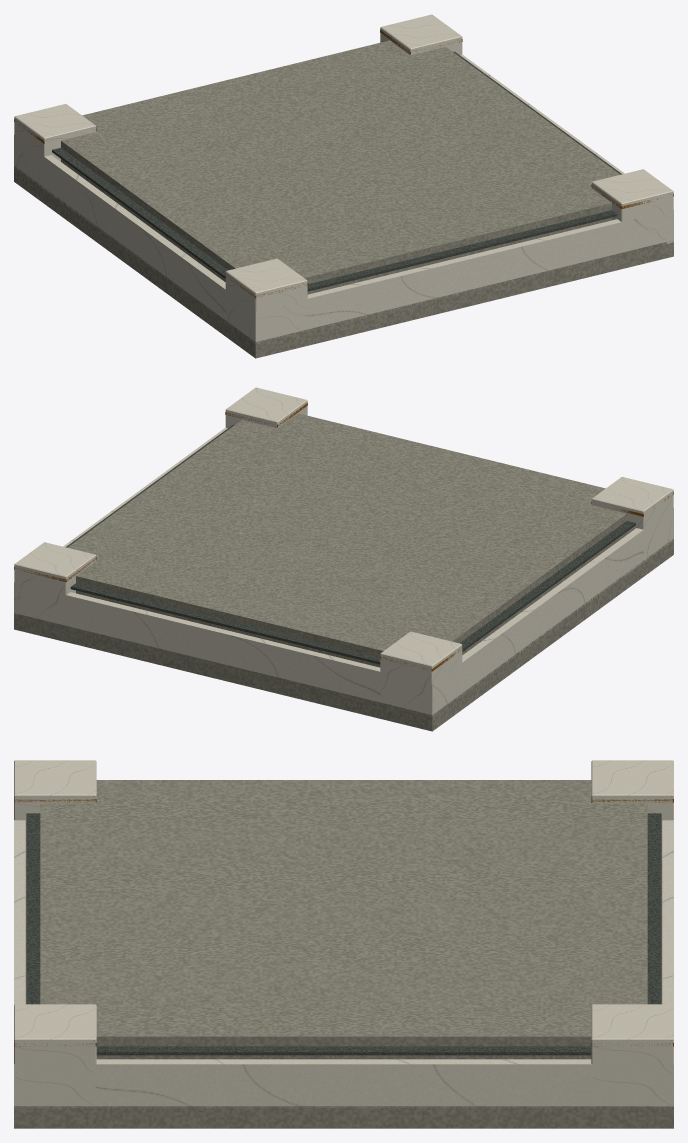
3 views of the same model, one above another, from view 1: azimuth 30°, elevation 25°; view 2: azimuth 150°, elevation 25°; view 3: azimuth 270°, elevation 25° (orthographic). The views are drawn at different scales.
Visible parts, largest first — view 1: LOD1__Plinth bearing body, LOD1__Perimeter exposed marble footing edge, LOD1__Footing bottom bearing pad, LOD1__Perimeter exposed marble footing edge.002, LOD1__Independent marble corner bearing facing, LOD1__Independent marble corner bearing facing.002, LOD1__Independent marble corner bearing facing.001, LOD1__Separate open drainage channel bed, LOD1__Independent marble corner bearing facing.003, LOD1__Separate open drainage channel bed.002, LOD1__Perimeter exposed marble footing edge.003; view 2: LOD1__Plinth bearing body, LOD1__Perimeter exposed marble footing edge.001, LOD1__Footing bottom bearing pad, LOD1__Perimeter exposed marble footing edge.002, LOD1__Independent marble corner bearing facing.001, LOD1__Independent marble corner bearing facing.003, LOD1__Independent marble corner bearing facing, LOD1__Separate open drainage channel bed.001, LOD1__Independent marble corner bearing facing.002, LOD1__Separate open drainage channel bed.002, LOD1__Perimeter exposed marble footing edge.003; view 3: LOD1__Plinth bearing body, LOD1__Perimeter exposed marble footing edge.003, LOD1__Footing bottom bearing pad, LOD1__Independent marble corner bearing facing.003, LOD1__Independent marble corner bearing facing.002, LOD1__Separate open drainage channel bed.003, LOD1__Independent marble corner bearing facing.001, LOD1__Independent marble corner bearing facing, LOD1__Separate open drainage channel bed, LOD1__Separate open drainage channel bed.001, LOD1__Perimeter exposed marble footing edge, LOD1__Perimeter exposed marble footing edge.001.
Boxes of the visible parts, bbox=[...] form: LOD1__Plinth bearing body: bbox=[61, 40, 620, 294]; LOD1__Perimeter exposed marble footing edge: bbox=[251, 209, 673, 343]; LOD1__Footing bottom bearing pad: bbox=[14, 166, 673, 358]; LOD1__Perimeter exposed marble footing edge.002: bbox=[14, 138, 262, 341]; LOD1__Independent marble corner bearing facing: bbox=[225, 258, 307, 341]; LOD1__Independent marble corner bearing facing.002: bbox=[592, 169, 673, 251]; LOD1__Independent marble corner bearing facing.001: bbox=[14, 104, 95, 185]; LOD1__Separate open drainage channel bed: bbox=[307, 210, 617, 291]; LOD1__Independent marble corner bearing facing.003: bbox=[380, 14, 462, 55]; LOD1__Separate open drainage channel bed.002: bbox=[52, 147, 227, 278]; LOD1__Perimeter exposed marble footing edge.003: bbox=[460, 54, 673, 243]; LOD1__Plinth bearing body: bbox=[67, 413, 626, 667]; LOD1__Perimeter exposed marble footing edge.001: bbox=[14, 584, 435, 714]; LOD1__Footing bottom bearing pad: bbox=[14, 538, 673, 731]; LOD1__Perimeter exposed marble footing edge.002: bbox=[425, 508, 673, 716]; LOD1__Independent marble corner bearing facing.001: bbox=[380, 631, 462, 714]; LOD1__Independent marble corner bearing facing.003: bbox=[14, 542, 95, 624]; LOD1__Independent marble corner bearing facing: bbox=[592, 477, 673, 559]; LOD1__Separate open drainage channel bed.001: bbox=[70, 583, 380, 664]; LOD1__Independent marble corner bearing facing.002: bbox=[225, 387, 307, 428]; LOD1__Separate open drainage channel bed.002: bbox=[460, 520, 635, 651]; LOD1__Perimeter exposed marble footing edge.003: bbox=[14, 427, 227, 615]; LOD1__Plinth bearing body: bbox=[40, 780, 647, 1059]; LOD1__Perimeter exposed marble footing edge.003: bbox=[14, 1059, 673, 1109]; LOD1__Footing bottom bearing pad: bbox=[14, 862, 673, 1128]; LOD1__Independent marble corner bearing facing.003: bbox=[591, 1004, 673, 1105]; LOD1__Independent marble corner bearing facing.002: bbox=[14, 1004, 96, 1105]; LOD1__Separate open drainage channel bed.003: bbox=[96, 1046, 591, 1055]; LOD1__Independent marble corner bearing facing.001: bbox=[591, 760, 673, 861]; LOD1__Independent marble corner bearing facing: bbox=[14, 760, 96, 861]; LOD1__Separate open drainage channel bed: bbox=[26, 813, 40, 1004]; LOD1__Separate open drainage channel bed.001: bbox=[647, 813, 661, 1004]; LOD1__Perimeter exposed marble footing edge: bbox=[14, 820, 25, 1108]; LOD1__Perimeter exposed marble footing edge.001: bbox=[662, 820, 673, 1106].
Size of the model in its own units: 4 by 0.6 by 4.
4 materials, 4 textured.
